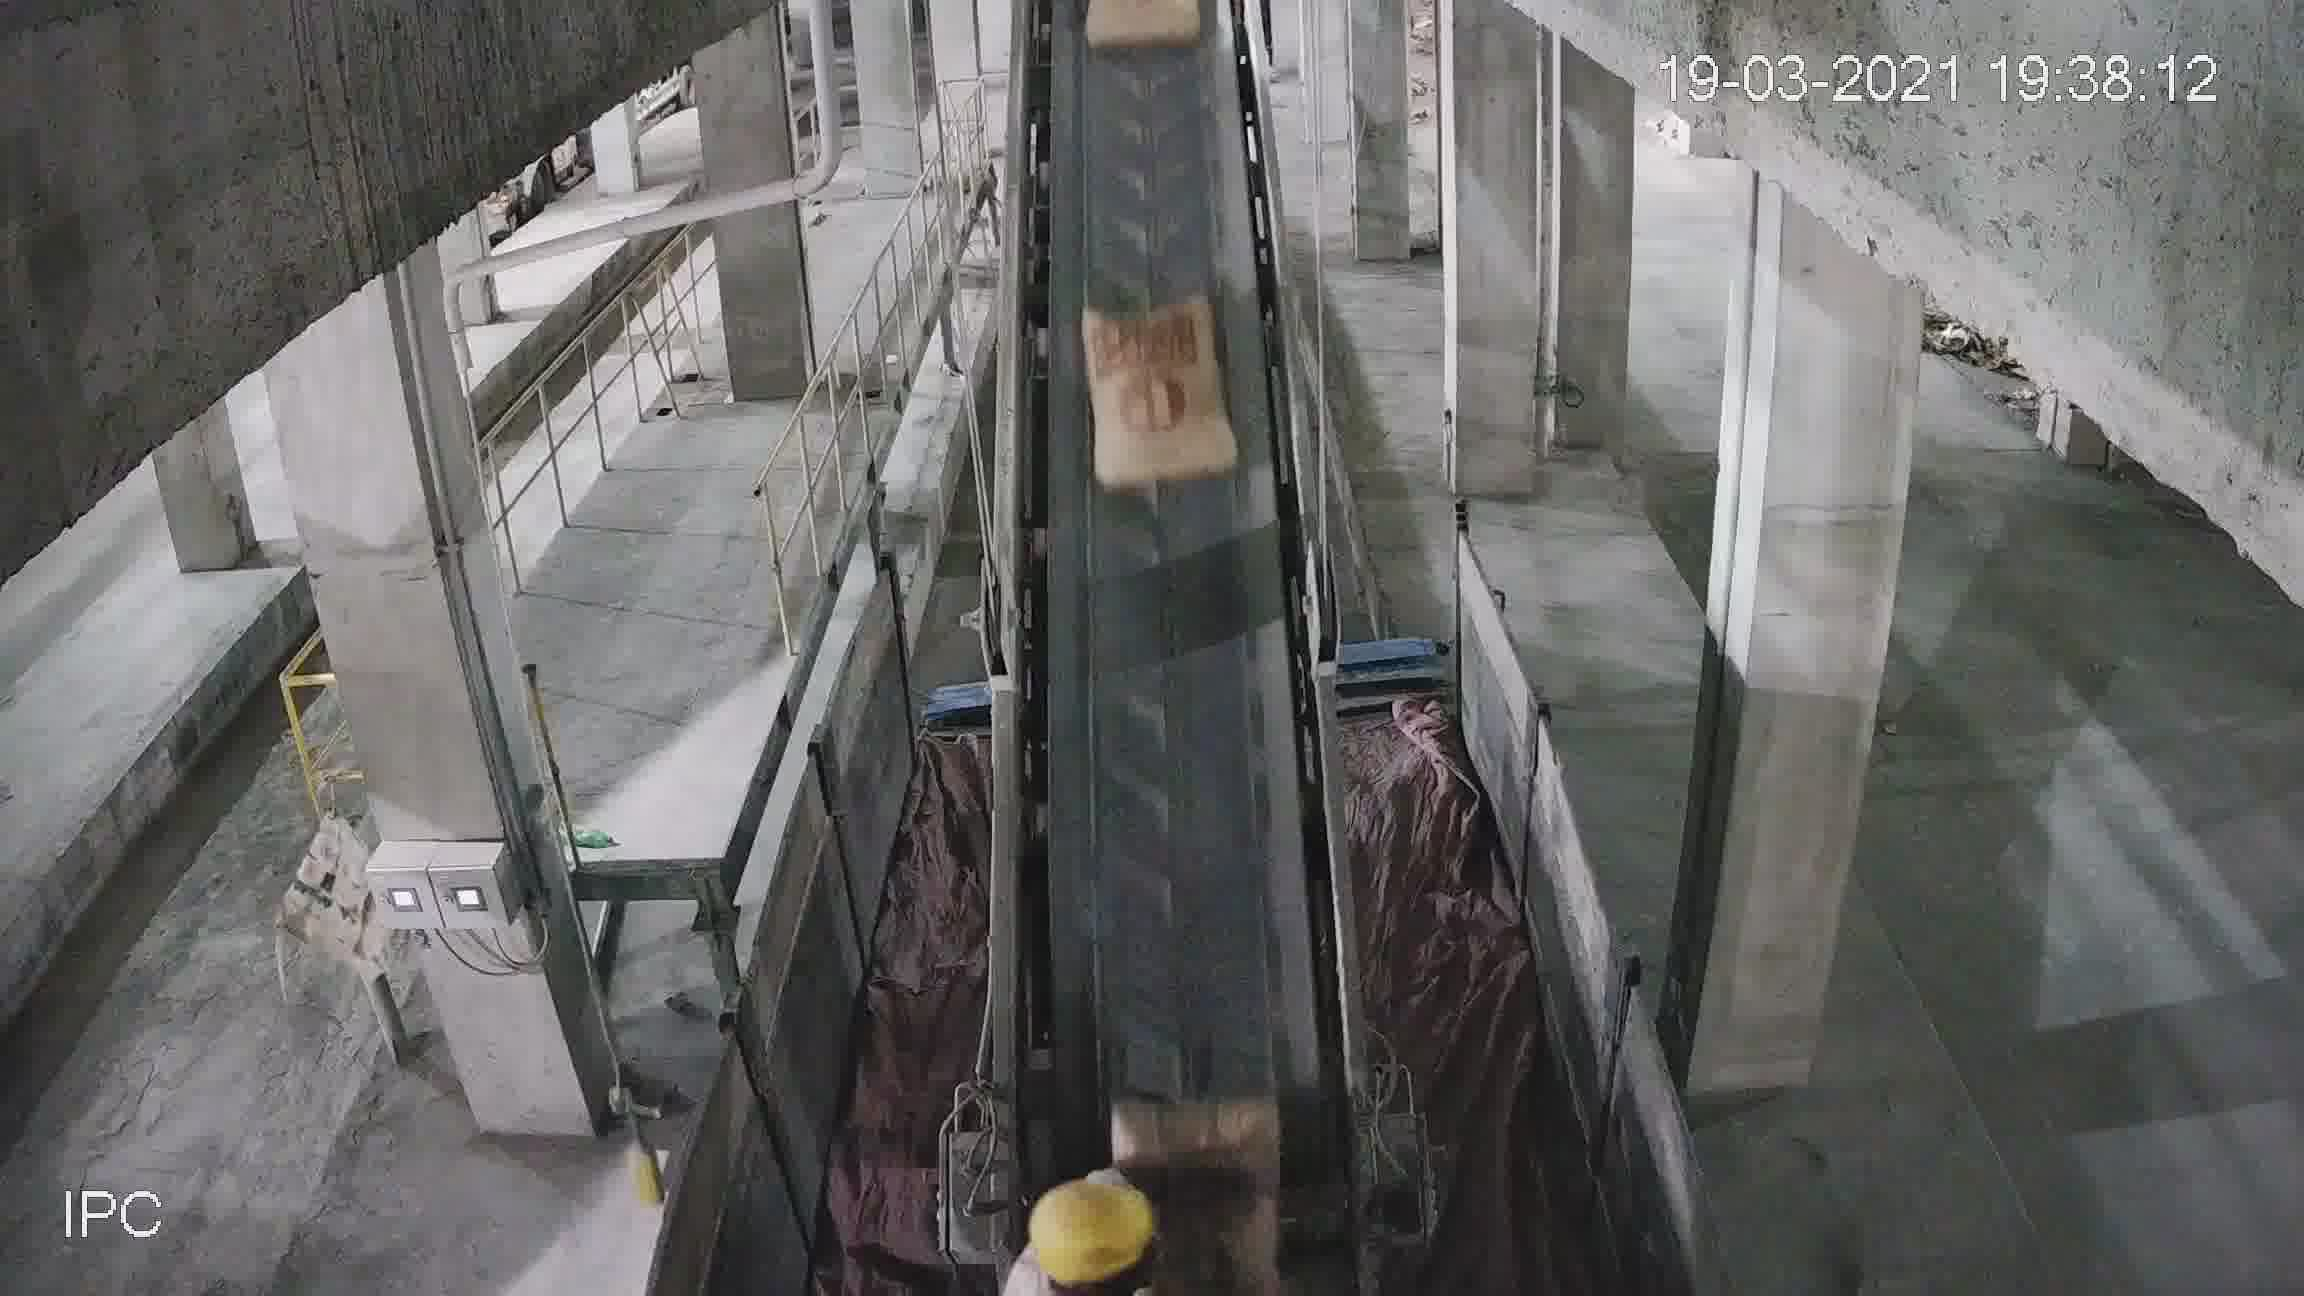bag: (1087, 293, 1226, 484), (1112, 1095, 1271, 1179)
belt: (976, 33, 1372, 1166)
